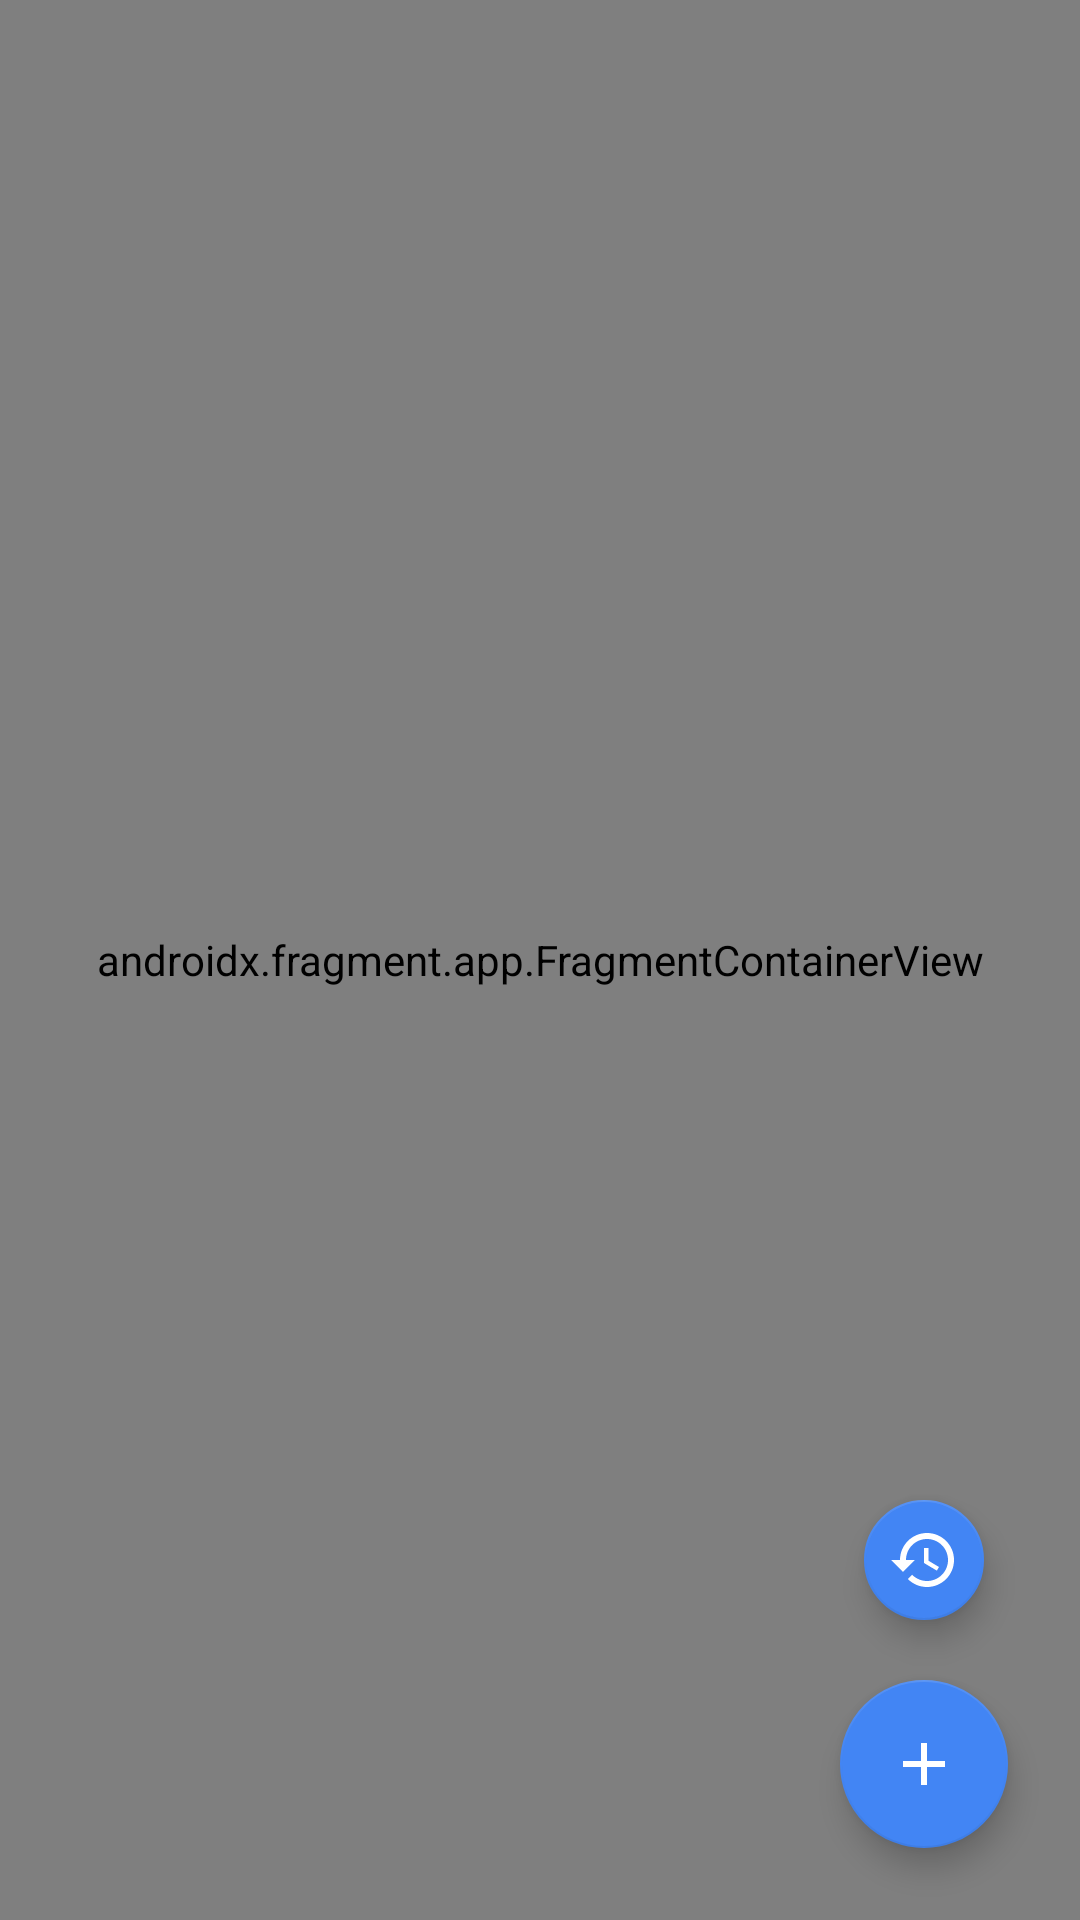

Where to tap for icons on this 1080w x 1920h app screen, as [x,y]:
add: [924,1764]
history: [924,1560]
